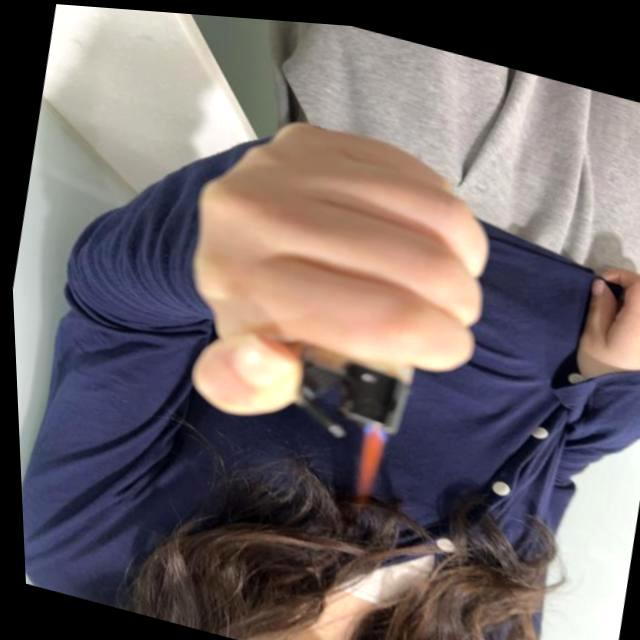fire: (346, 416, 388, 496)
